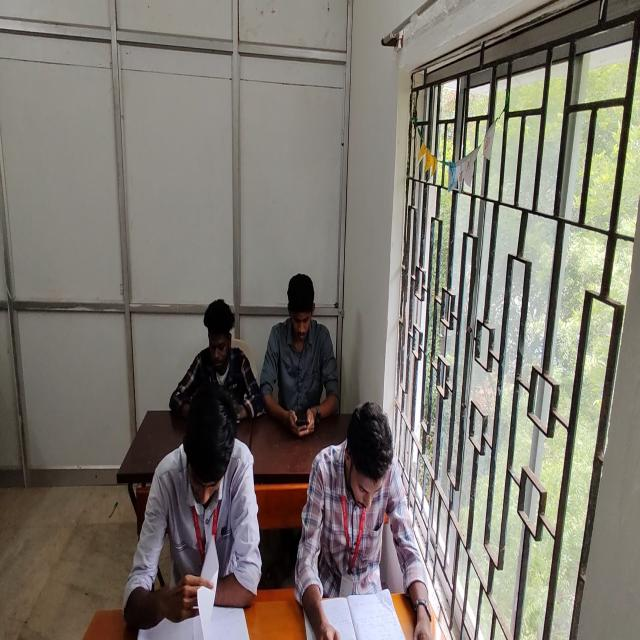reading: (285, 385, 437, 640), (114, 404, 265, 640)
using_mobile: (256, 267, 343, 438), (170, 289, 262, 427)
